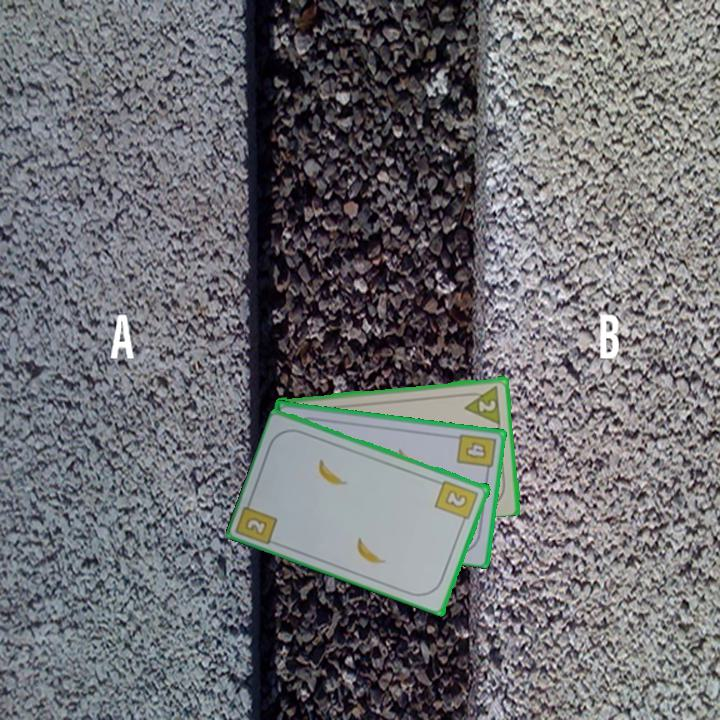2b: (432, 476, 481, 527), (242, 513, 271, 538)
2p: (460, 382, 504, 426)
4b: (453, 430, 498, 476)
